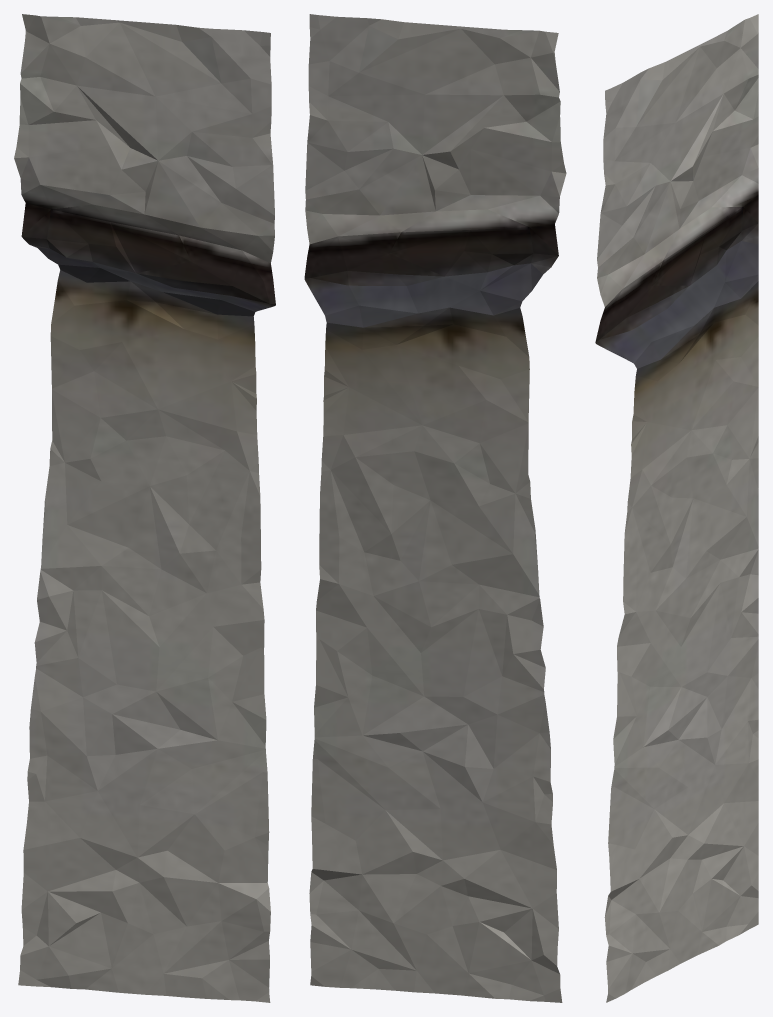
The picture shows the model from 3 angles, left to right: view 1: azimuth 30°, elevation 25°; view 2: azimuth 210°, elevation 25°; view 3: azimuth 270°, elevation 25°; orthographic projection. The views are drawn at different scales.
Bounding box in the file's own units: 0.1581 × 0.8374 × 0.1357.
Materials: 1 (1 with a texture image).
